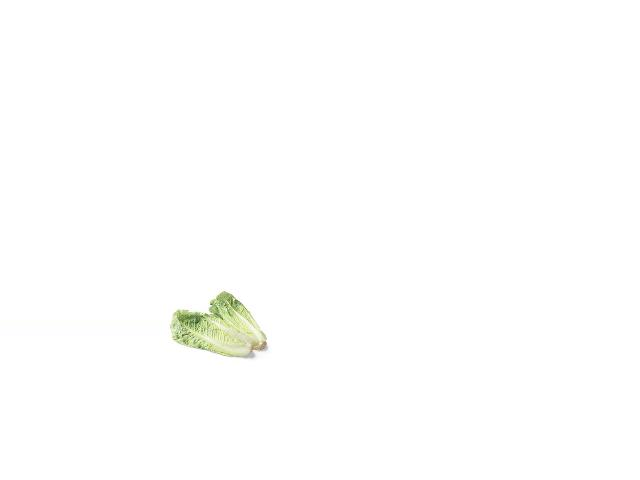lettuce: (208, 290, 271, 352)
